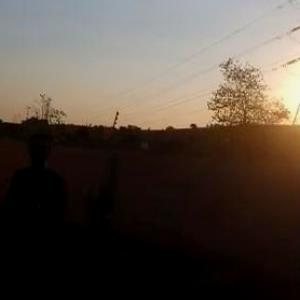follow: (0, 124, 77, 299)
